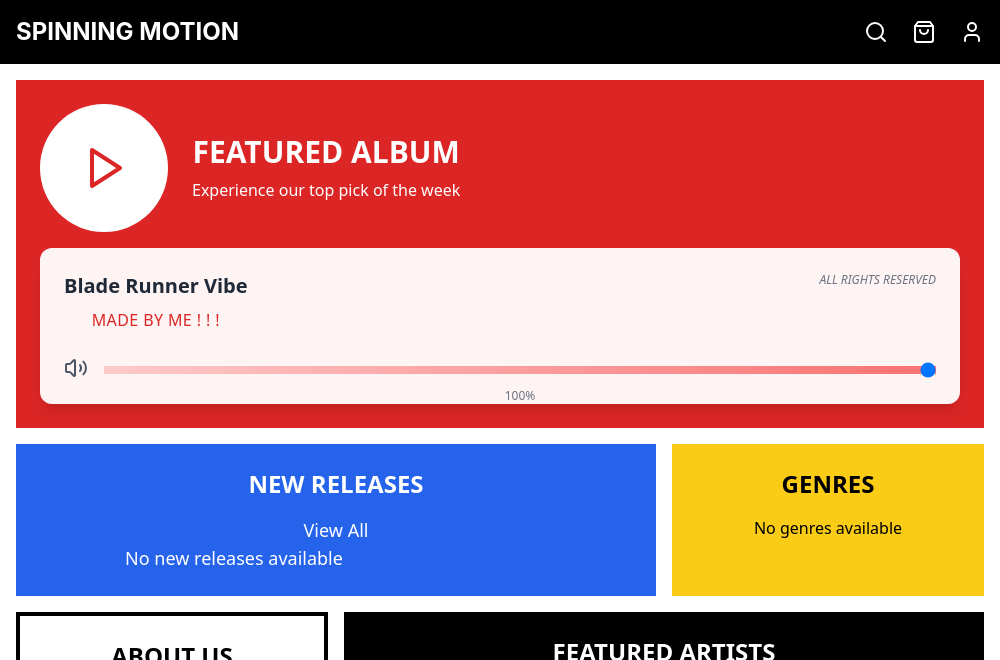
Scenario: Authentication › Modal Behavior › should close modal when clicking close button
The image size is (1000, 660).
Click the 2nd button. click: click(972, 32)
box: [960,20,984,44]
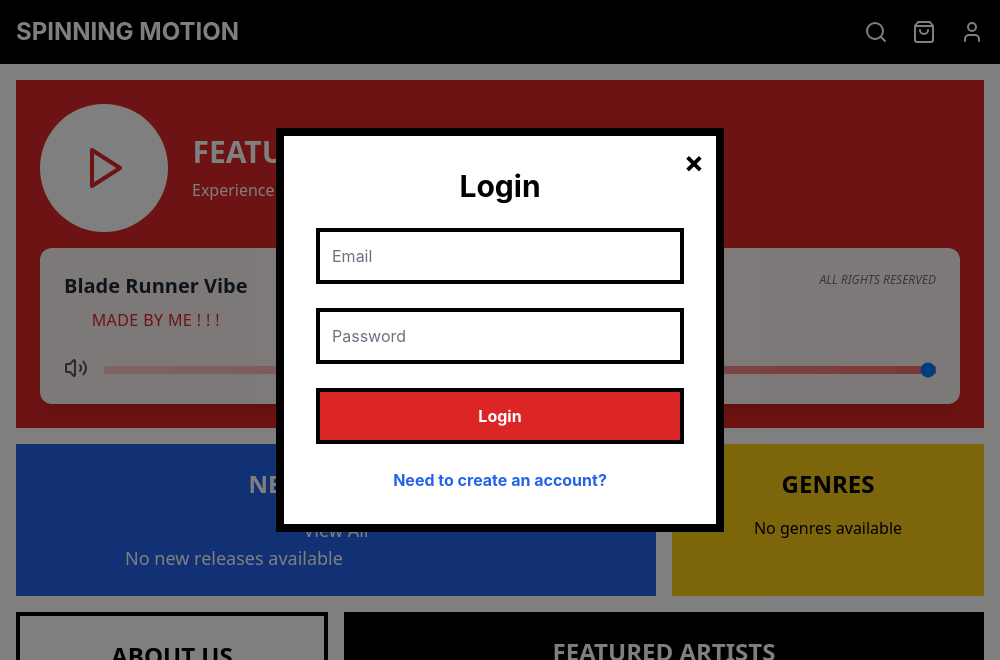
Expected: the element with class "inset-0" is shown
Click the button "×". click: click(694, 162)
box: [684,144,704,180]
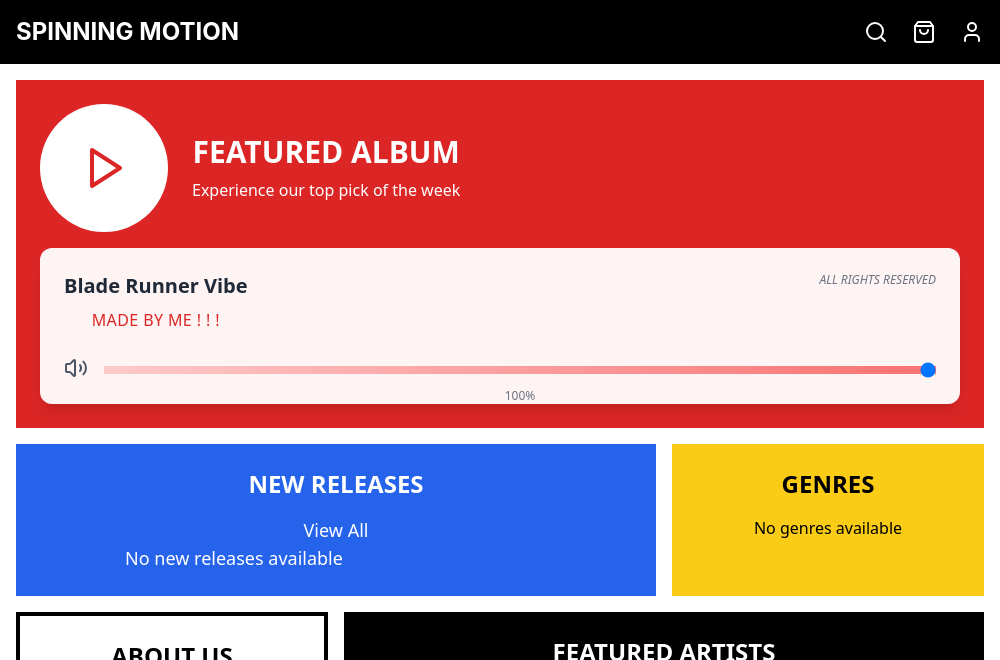
Expected: the element with class "inset-0" is gone
